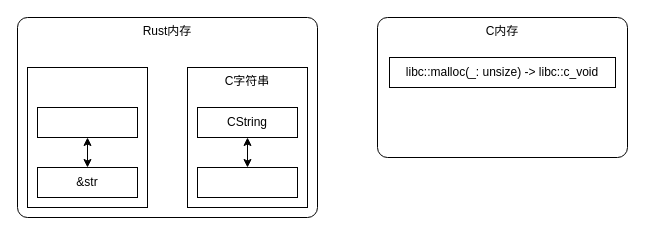
Some shapes in this 645 by 235 pixel diagram are drawn without their labels. The box of each missing label's shape, as (x1, y1, x2, y2) in pixels:
&CStr: (196, 166, 298, 198)
Rust字符串: (26, 66, 148, 208)
String: (36, 106, 138, 138)
